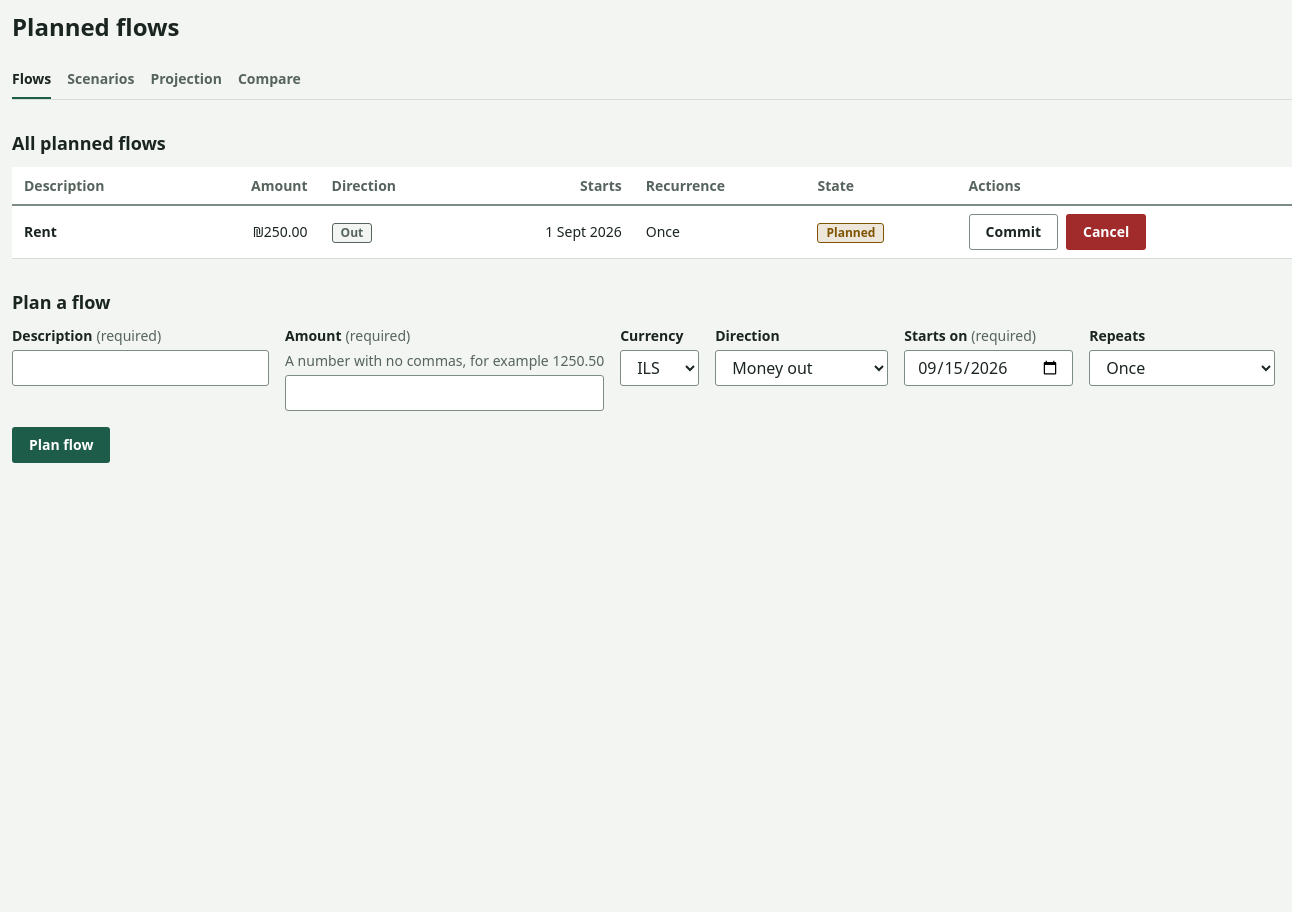
Test: PlannedFlowsPage lifecycle actions › Given_a_planned_flow_When_Cancel_is_opened_Then_the_panel_title_names_the_row
The image size is (1292, 912).
Expected: the table named "Planned flows" is shown, [12, 166, 1291, 258]
Click the button with aria-label "Cancel Rent, starting 1 Sept 2026" at (1106, 232), box [1066, 214, 1146, 250]
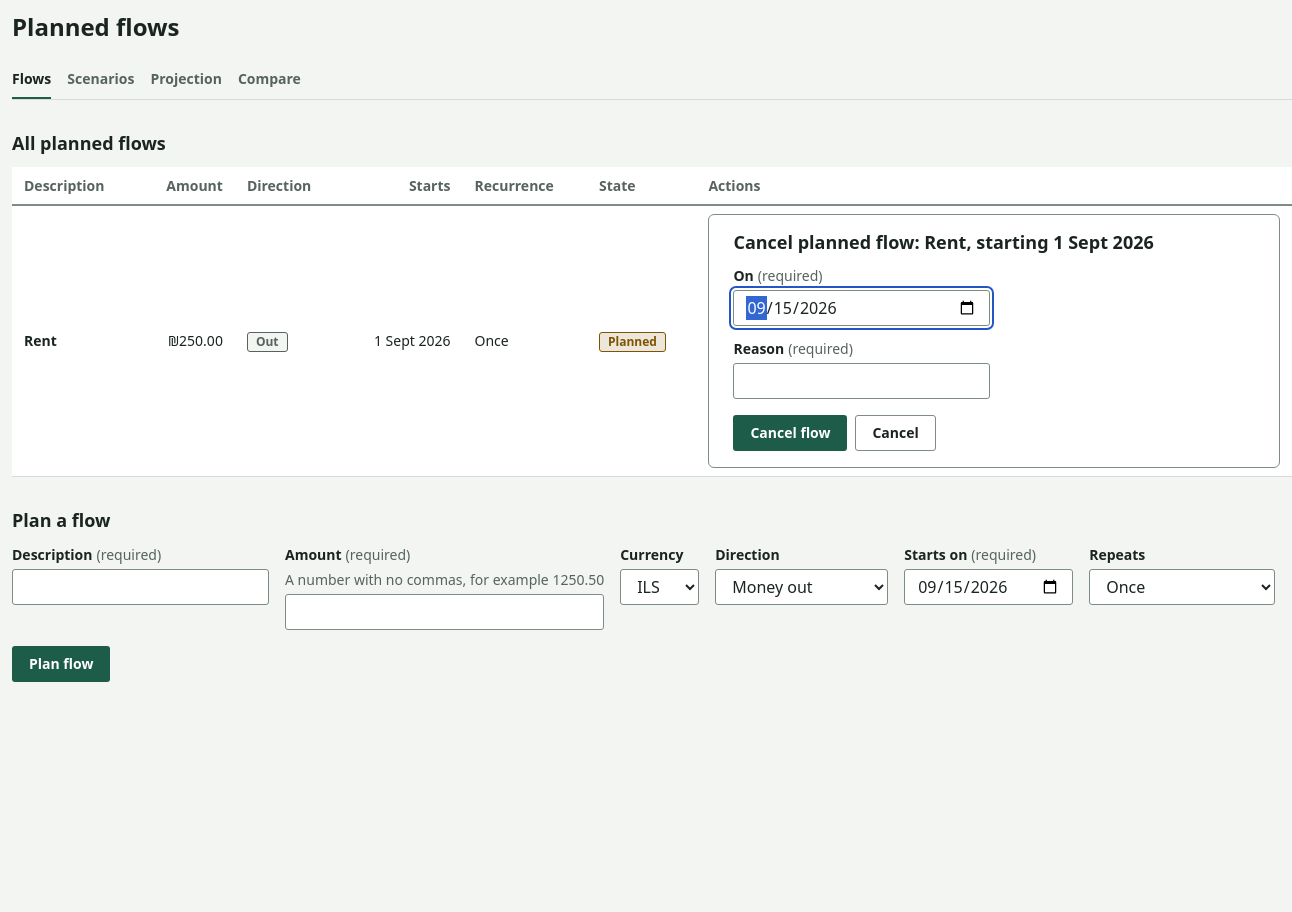
Result: the element "Cancel planned flow: Rent, starting 1 Sept 2026" is shown at [708, 214, 1280, 468]
